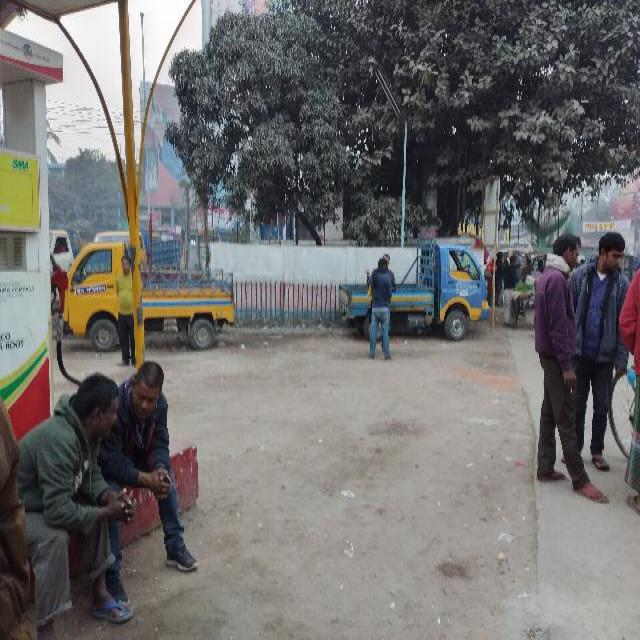vehicle: (64, 242, 237, 352), (339, 238, 489, 348), (92, 230, 182, 268)
